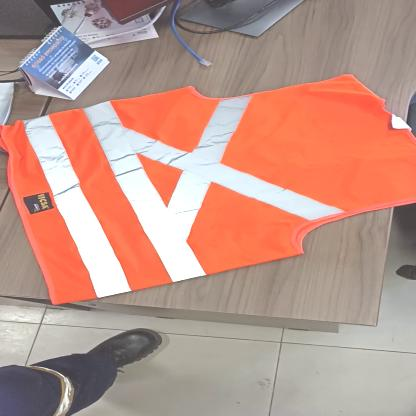colete: (2, 74, 416, 310)
